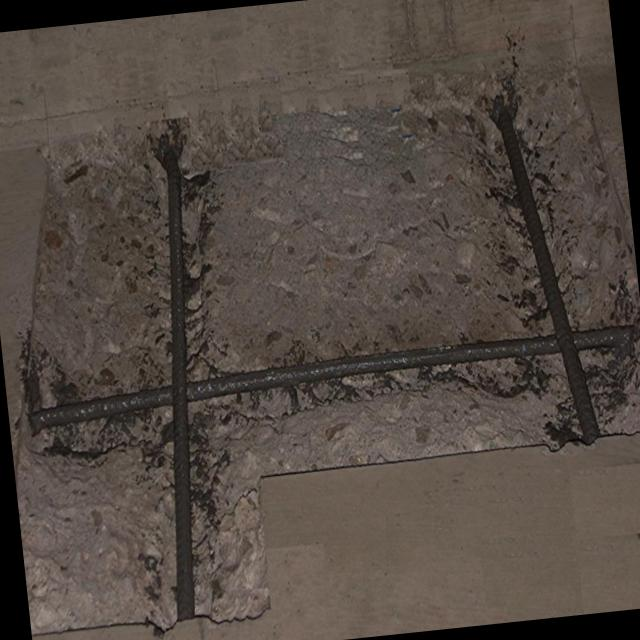spalling: (14, 64, 640, 638)
